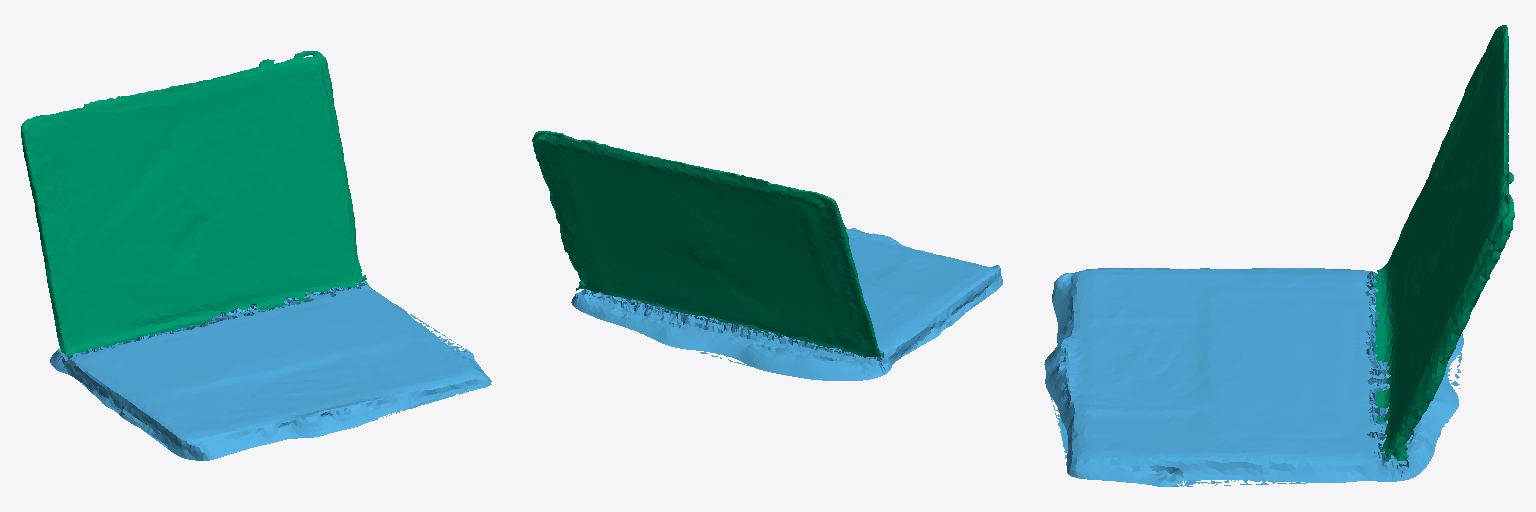
The robot description file, URDF, robot "object":
<?xml version='1.0' encoding='utf-8'?>
<robot name="object">
  <link name="base">
    <inertial>
      <origin xyz="0 0 0" rpy="0 0 0" />
      <mass value="0.0" />
      <inertia ixx="0" ixy="0" ixz="0" iyy="0" iyz="0" izz="0" />
    </inertial>
  </link>
  <link name="link_1">
    <visual>
      <origin xyz="0 0 0" rpy="0 0 0" />
      <geometry>
        <mesh filename="meshes/link_1.stl" />
      </geometry>
    </visual>
    <collision>
      <origin xyz="0 0 0" rpy="0 0 0" />
      <geometry>
        <mesh filename="meshes/link_1.stl" />
      </geometry>
    </collision>
    <inertial>
      <origin xyz="-0.0424699416 0.0508556479 0.0290919629" rpy="0 0 0" />
      <mass value="63.4959616" />
      <inertia ixx="5.74989376" ixy="0.359228396" ixz="-0.000934944949" iyy="8.65740575" iyz="0.052319821" izz="14.4766654" />
    </inertial>
  </link>
  <link name="link_2">
    <visual>
      <origin xyz="-0.0343776686 -0.449040032 -0.0366234868" rpy="0 0 0" />
      <geometry>
        <mesh filename="meshes/link_2.stl" />
      </geometry>
    </visual>
    <collision>
      <origin xyz="-0.0343776686 -0.449040032 -0.0366234868" rpy="0 0 0" />
      <geometry>
        <mesh filename="meshes/link_2.stl" />
      </geometry>
    </collision>
    <inertial>
      <origin xyz="-0.00972413696 0.156310209 0.397853628" rpy="0 0 0" />
      <mass value="36.8228652" />
      <inertia ixx="-2.23984043" ixy="-0.0348957756" ixz="0.66580396" iyy="2.36730479" iyz="-0.586172289" izz="5.19464512" />
    </inertial>
  </link>
  <joint name="joint_1_2" type="revolute">
    <parent link="link_1" />
    <child link="link_2" />
    <origin xyz="0.0343776686 0.449040032 0.0366234868" rpy="0 0 0" />
    <axis xyz="-0.999956278 0.00477923137 0.00803745621" />
    <limit lower="-1.57" upper="1.57" effort="10.0" velocity="1.0" />
  </joint>
  <joint name="base_to_1" type="fixed">
    <parent link="base" />
    <child link="link_1" />
    <origin xyz="0 0 0" rpy="0 0 0" />
  </joint>
</robot>

--- Facts derived from the render (not from the file) ---
The picture shows the robot from 3 angles, left to right: view 1: azimuth 30°, elevation 25°; view 2: azimuth 150°, elevation 25°; view 3: azimuth 270°, elevation 25°; orthographic projection.
Model object with 3 links and 2 joints (1 revolute, 1 fixed), rooted at base, posed every joint at zero.
Links seen in each view (by area): view 1: link_2, link_1; view 2: link_2, link_1; view 3: link_1, link_2.
Boxes of the visible links, x1,y1,x2,y2 form: link_2: (21, 51, 366, 356); link_1: (50, 281, 491, 460); link_2: (532, 131, 882, 356); link_1: (571, 228, 1002, 380); link_1: (1044, 268, 1463, 486); link_2: (1373, 25, 1514, 460).
Size in the robot's own frame: 1.36 by 1.33 by 0.8452 metres.
Meshes: 2 distinct files referenced, 2 mesh visuals loaded (2 binary STL).
